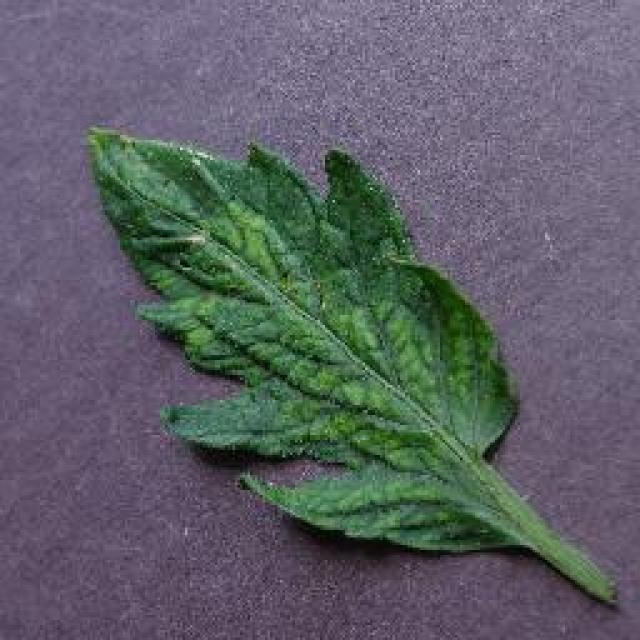Tomato spider mites leaf: (87, 125, 515, 557)
